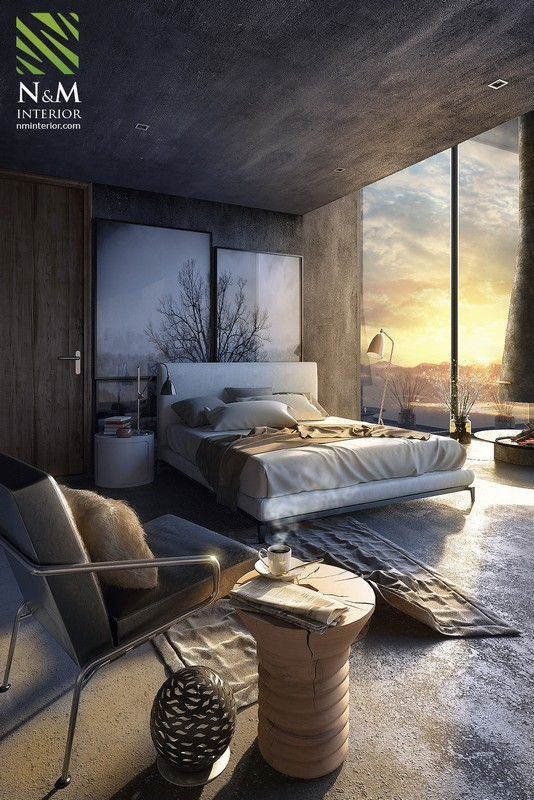bed: (153, 350, 477, 534)
chair: (6, 451, 249, 692)
door: (5, 167, 98, 487)
lamp: (360, 321, 399, 433)
stool: (233, 551, 377, 780), (92, 425, 156, 492)
